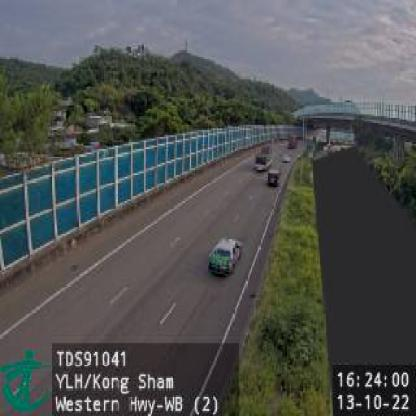Bus: (253, 140, 272, 173)
Car: (208, 237, 243, 277), (267, 167, 282, 189)
